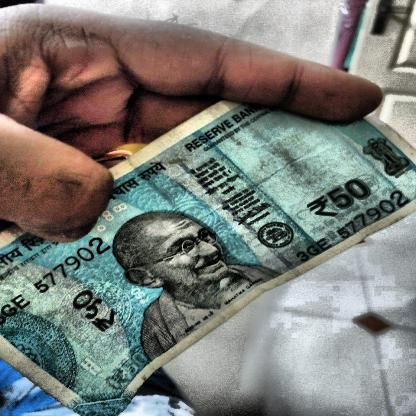Rs50: (297, 171, 383, 228)
